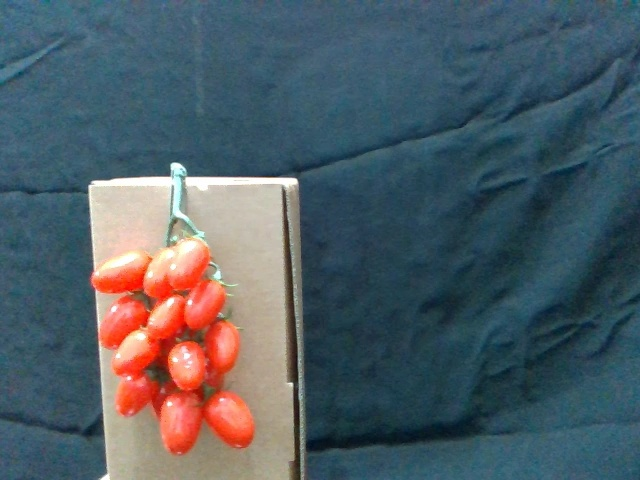tomato: (204, 389, 256, 449), (161, 391, 205, 458), (90, 250, 151, 296), (101, 297, 152, 348), (166, 339, 211, 393), (115, 329, 161, 378), (114, 372, 158, 420), (205, 320, 242, 375), (173, 240, 214, 289), (185, 282, 228, 328), (146, 246, 182, 300), (148, 296, 187, 340)
